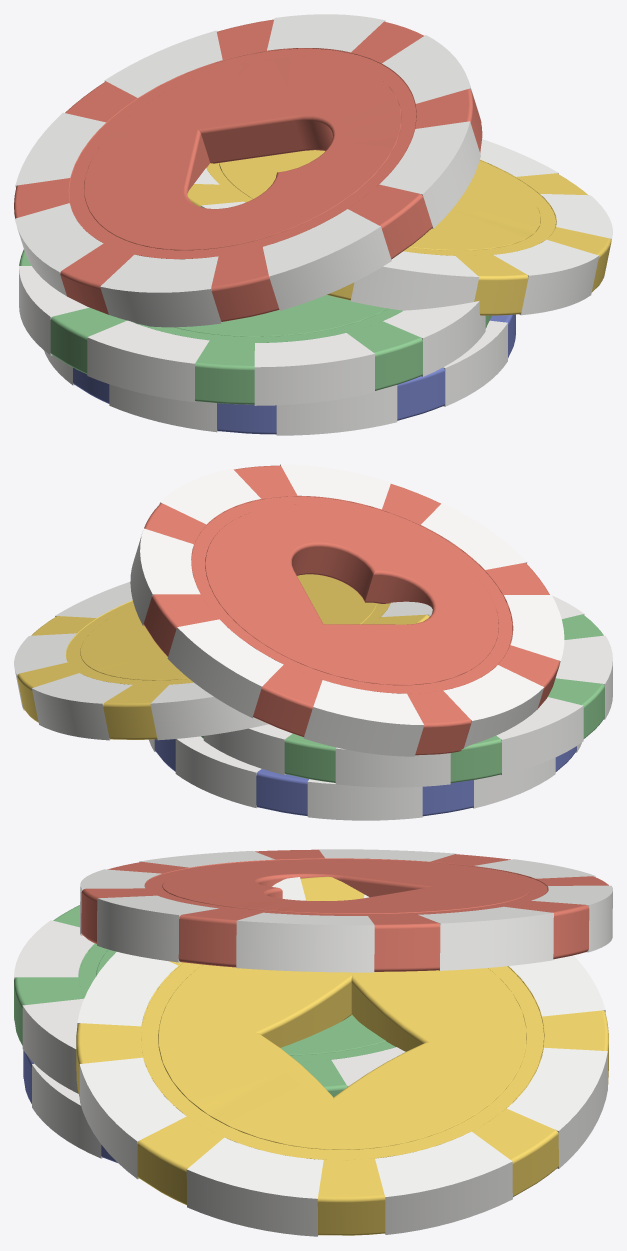
File: chips.glb
The picture shows the model from 3 angles, top to bottom: view 1: azimuth 30°, elevation 25°; view 2: azimuth 150°, elevation 25°; view 3: azimuth 270°, elevation 25°; orthographic projection. The views are drawn at different scales.
Visible parts, largest first — view 1: Body11, Body4, Body12, Body4.001; view 2: Body11, Body12, Body4, Body4.001; view 3: Body12, Body11, Body4, Body4.001.
Boxes of the visible parts, x1,y1,x2,y2 form: Body11: [14, 14, 482, 327]; Body4: [19, 249, 491, 405]; Body12: [187, 139, 612, 315]; Body4.001: [44, 314, 515, 435]; Body11: [130, 464, 564, 756]; Body12: [14, 574, 432, 740]; Body4: [201, 594, 612, 787]; Body4.001: [149, 736, 581, 820]; Body12: [76, 876, 608, 1236]; Body11: [80, 849, 612, 972]; Body4: [14, 905, 405, 1097]; Body4.001: [23, 1050, 117, 1162].
Bounding box in the file's own units: 0.0528 × 0.0207 × 0.0438.
